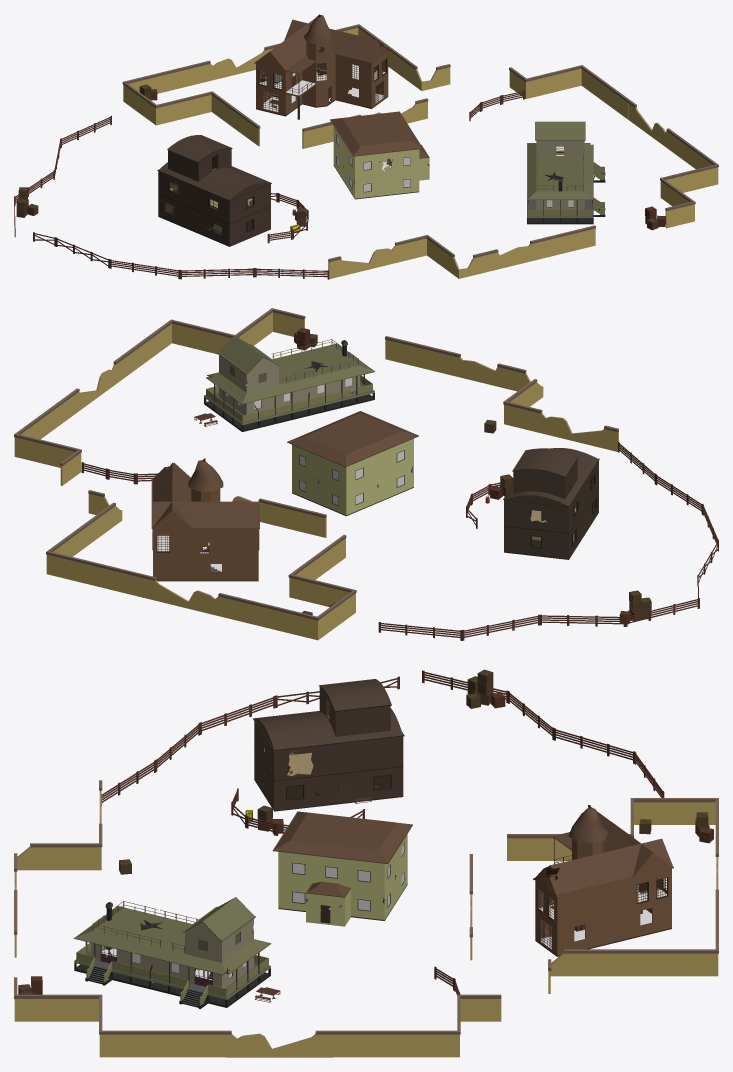
The model's file is FARMHOUSE LOCATION.fbx.
3 renders of one model, top to bottom at view 1: azimuth 30°, elevation 25°; view 2: azimuth 150°, elevation 25°; view 3: azimuth 270°, elevation 25°, orthographic. The views are drawn at different scales.
Parts seen in each view (by area): view 1: Cube, Cube.058, Cube.062, Cube.047, Cube.015, Cube.056, Cube.012, Cube.018, Cube.011, STRAIGHT.WALL.001|STRAIGHT.WALL.2|Dupli|, BROKEN.WALL.004|BROKEN.WALL.2|Dupli|, STRAIGHT.WALL.006|STRAIGHT.WALL.2|Dupli| (+25 smaller); view 2: Cube, Cube.047, Cube.058, Cube.015, Cube.062, Cube.056, Cube.018, Cube.011, STRAIGHT.WALL.008|STRAIGHT.WALL.2|Dupli|, STRAIGHT.WALL.005|STRAIGHT.WALL.2|Dupli|, STRAIGHT.WALL.001|STRAIGHT.WALL.2|Dupli|, STRAIGHT.WALL.006|STRAIGHT.WALL.2|Dupli| (+26 smaller); view 3: Cube, Cube.058, Cube.047, Cube.062, Cube.056, Cube.015, Cube.018, Cube.011, STRAIGHT.WALL.004|STRAIGHT.WALL.2|Dupli|, STRAIGHT.WALL.003|STRAIGHT.WALL.2|Dupli|, STRAIGHT.WALL.007|STRAIGHT.WALL.2|Dupli|, BROKEN.WALL.005|BROKEN.WALL.2|Dupli| (+15 smaller).
Boxes of the visible parts, bbox=[...] form: Cube: bbox=[527, 121, 605, 224]; Cube.058: bbox=[158, 163, 270, 246]; Cube.062: bbox=[157, 135, 271, 200]; Cube.047: bbox=[333, 126, 429, 198]; Cube.015: bbox=[254, 18, 389, 74]; Cube.056: bbox=[330, 111, 422, 156]; Cube.012: bbox=[302, 14, 335, 106]; Cube.018: bbox=[256, 74, 388, 115]; Cube.011: bbox=[256, 51, 388, 92]; STRAIGHT.WALL.001|STRAIGHT.WALL.2|Dupli|: bbox=[541, 225, 595, 258]; BROKEN.WALL.004|BROKEN.WALL.2|Dupli|: bbox=[328, 242, 399, 279]; STRAIGHT.WALL.006|STRAIGHT.WALL.2|Dupli|: bbox=[151, 61, 206, 93]; Cube: bbox=[204, 335, 375, 431]; Cube.047: bbox=[292, 438, 413, 515]; Cube.058: bbox=[504, 461, 598, 559]; Cube.015: bbox=[151, 462, 259, 528]; Cube.062: bbox=[503, 448, 599, 507]; Cube.056: bbox=[287, 411, 418, 467]; Cube.018: bbox=[153, 547, 258, 580]; Cube.011: bbox=[152, 528, 259, 553]; STRAIGHT.WALL.008|STRAIGHT.WALL.2|Dupli|: bbox=[263, 499, 326, 537]; STRAIGHT.WALL.005|STRAIGHT.WALL.2|Dupli|: bbox=[79, 559, 142, 597]; STRAIGHT.WALL.001|STRAIGHT.WALL.2|Dupli|: bbox=[385, 336, 448, 374]; STRAIGHT.WALL.006|STRAIGHT.WALL.2|Dupli|: bbox=[222, 594, 285, 632]; Cube: bbox=[74, 897, 271, 1008]; Cube.058: bbox=[254, 714, 403, 811]; Cube.047: bbox=[278, 834, 407, 926]; Cube.062: bbox=[253, 679, 404, 750]; Cube.056: bbox=[272, 811, 412, 863]; Cube.015: bbox=[533, 807, 673, 896]; Cube.018: bbox=[535, 883, 671, 955]; Cube.011: bbox=[535, 868, 671, 924]; STRAIGHT.WALL.004|STRAIGHT.WALL.2|Dupli|: bbox=[333, 1030, 416, 1057]; STRAIGHT.WALL.003|STRAIGHT.WALL.2|Dupli|: bbox=[143, 1030, 225, 1057]; STRAIGHT.WALL.007|STRAIGHT.WALL.2|Dupli|: bbox=[592, 949, 674, 976]; BROKEN.WALL.005|BROKEN.WALL.2|Dupli|: bbox=[226, 1030, 333, 1057].
Size of the model in its own units: 8069 by 1155 by 6396.
